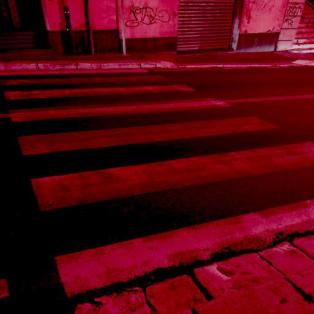Paso de Cebra: (5, 95, 284, 164)
